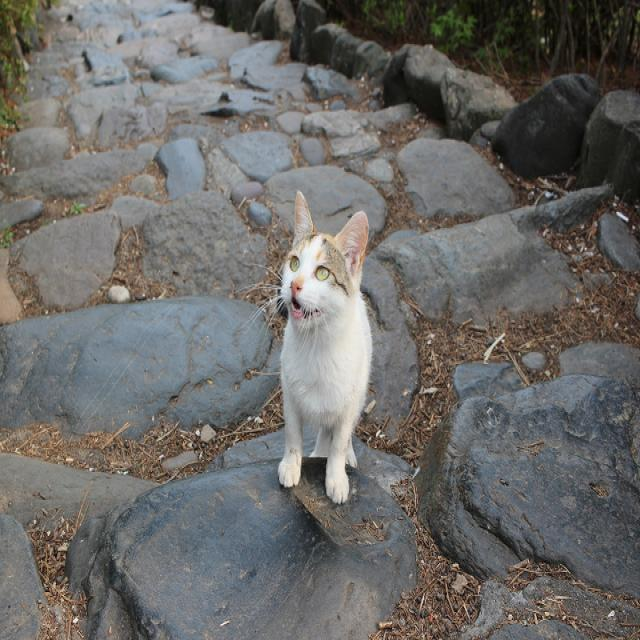cat: (264, 185, 378, 522)
